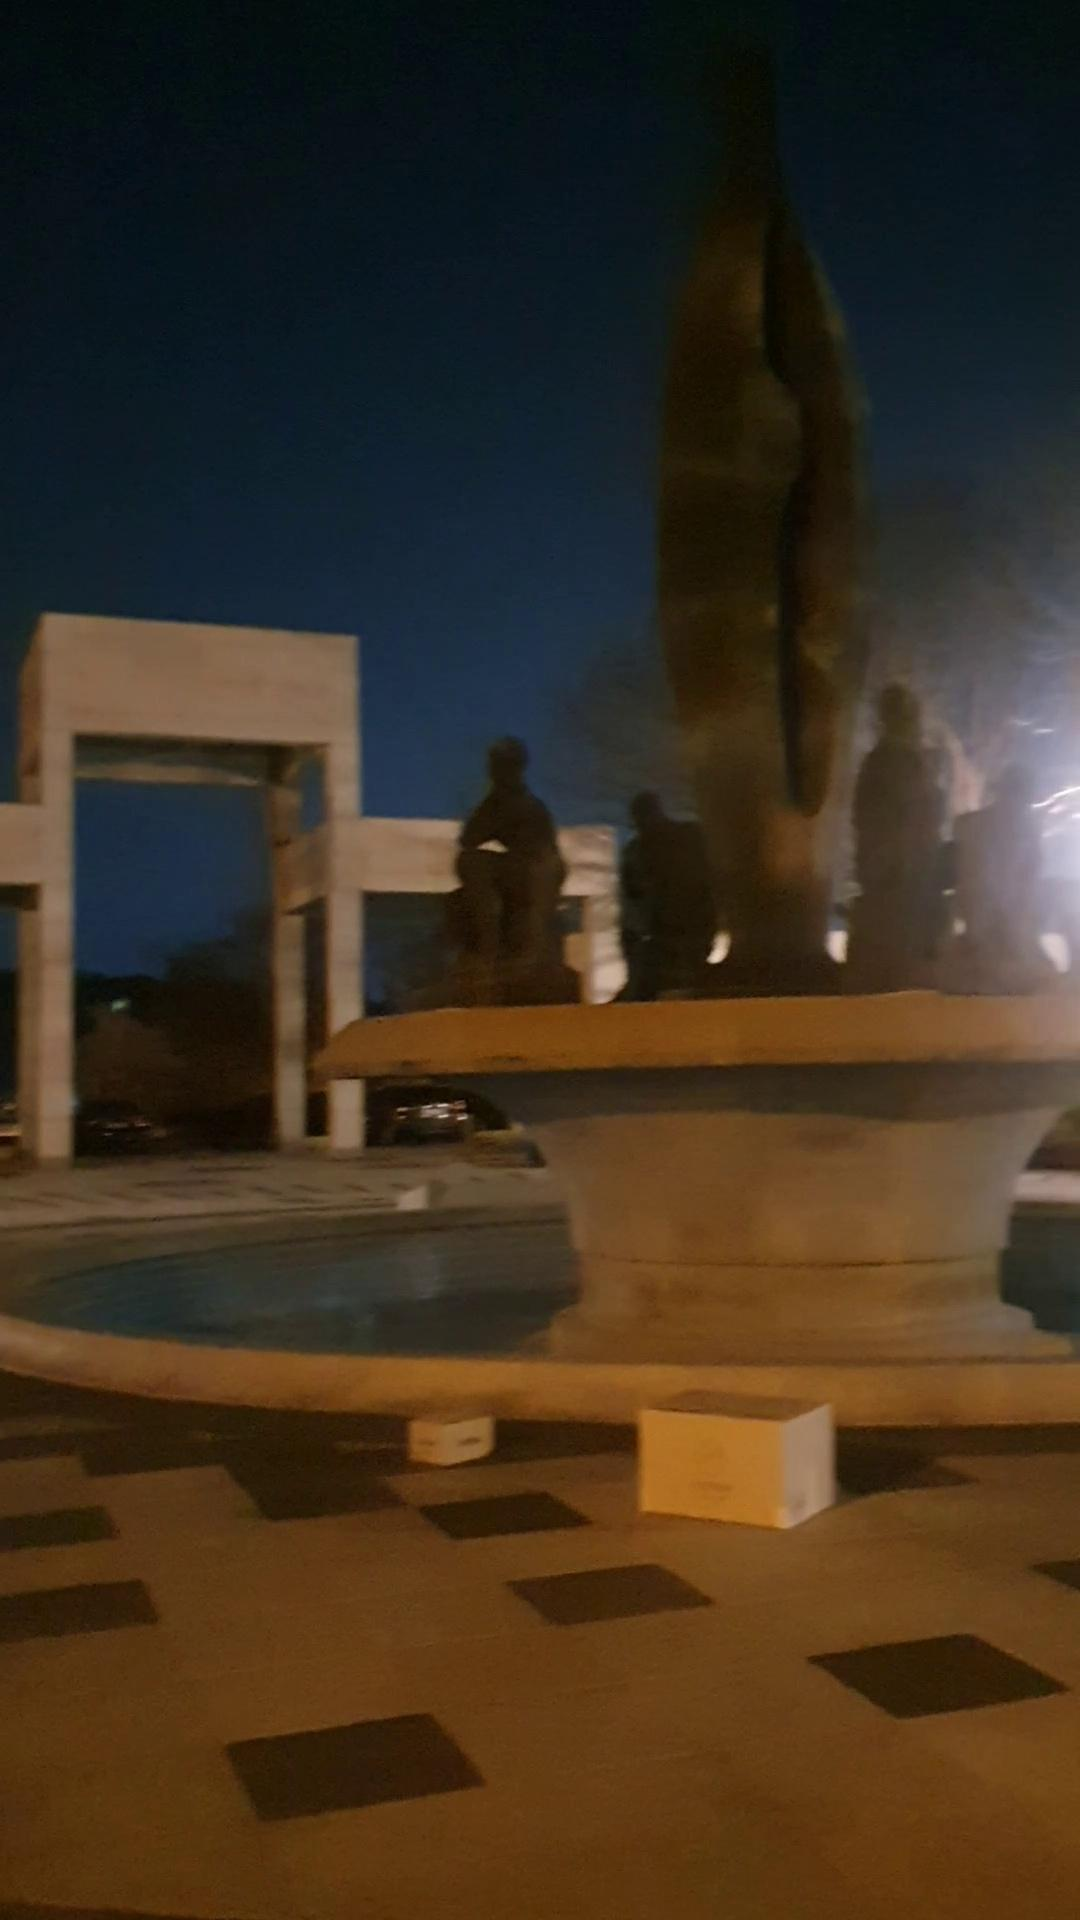Box: (633, 1390, 827, 1524), (404, 1400, 497, 1472)
